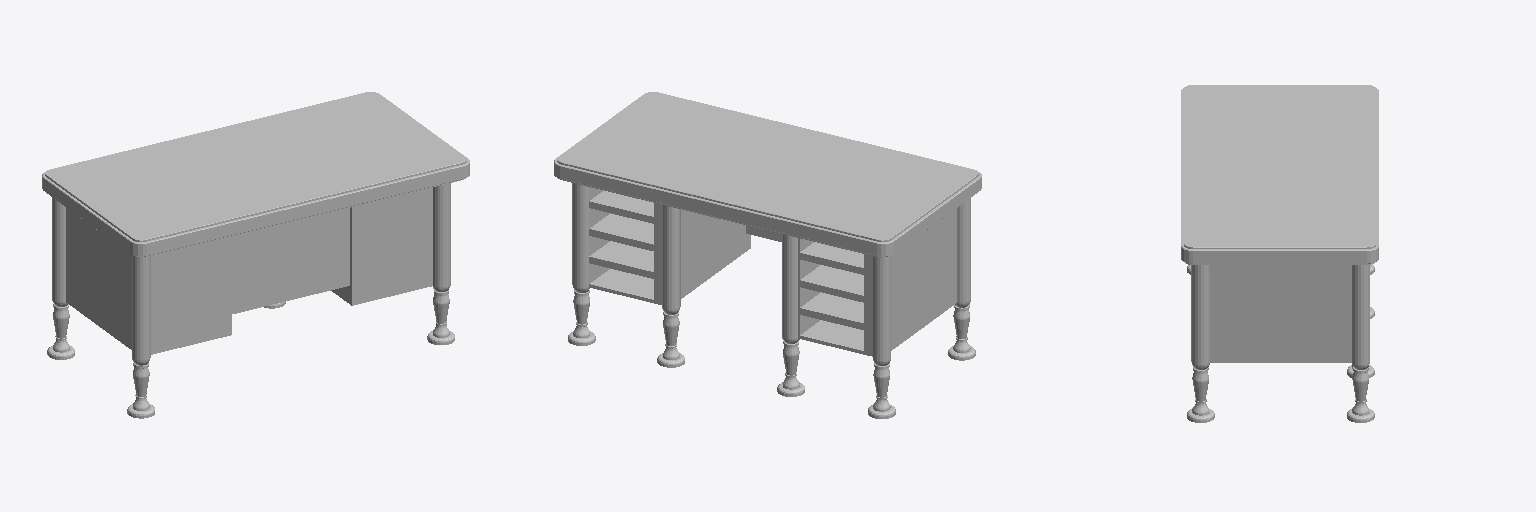
Rendered from SM_Desk_001.obj.
3 views of the same model, side by side, from view 1: azimuth 30°, elevation 25°; view 2: azimuth 150°, elevation 25°; view 3: azimuth 270°, elevation 25° (orthographic).
Visible parts, largest first — view 1: group31_pCylinder8; view 2: group31_pCylinder8; view 3: group31_pCylinder8.
Boxes of the visible parts, box(x1,y1,x2,y2) form: group31_pCylinder8: box(42, 92, 469, 418); group31_pCylinder8: box(554, 92, 981, 418); group31_pCylinder8: box(1181, 85, 1378, 422).
Size of the model in its own units: 154 by 78.55 by 78.42.